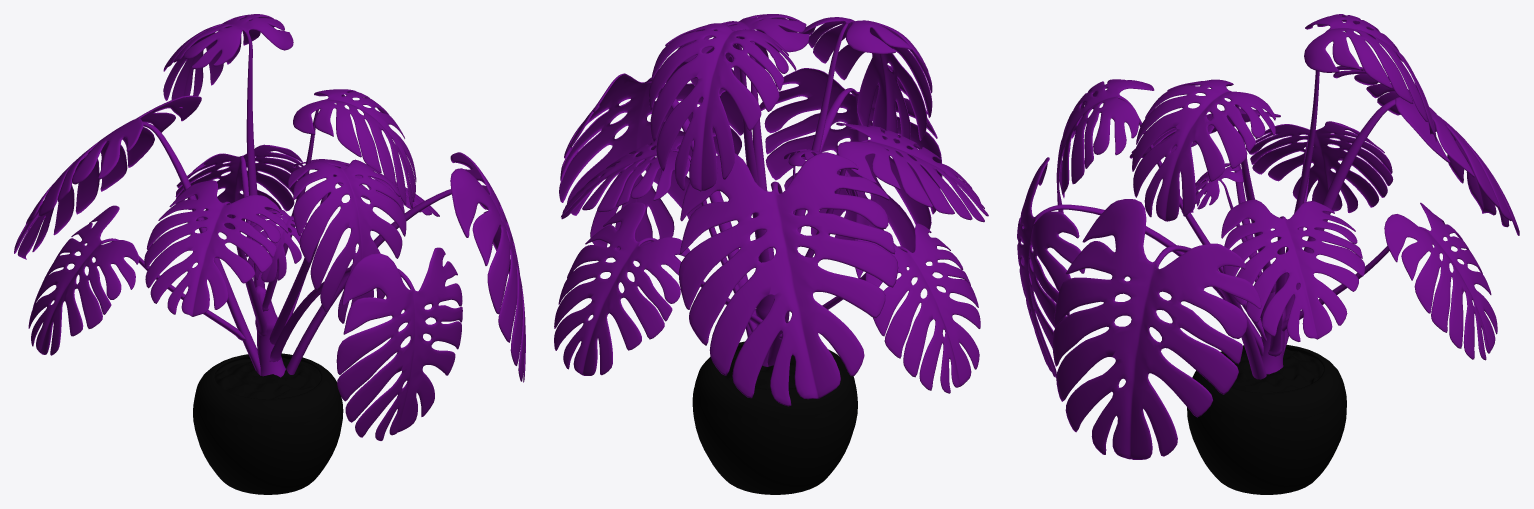
Rendered from Plant Monstera 01.obj.
The picture shows the model from 3 angles, left to right: view 1: azimuth 30°, elevation 25°; view 2: azimuth 150°, elevation 25°; view 3: azimuth 270°, elevation 25°; orthographic projection. The views are drawn at different scales.
Visible parts, largest first — view 1: MONSTERA, POT; view 2: MONSTERA, POT; view 3: MONSTERA, POT.
Boxes of the visible parts, left/top/right/bottom form: MONSTERA: left=14, top=14, right=525, bottom=440; POT: left=193, top=353, right=343, bottom=494; MONSTERA: left=554, top=14, right=988, bottom=406; POT: left=692, top=341, right=857, bottom=494; MONSTERA: left=1017, top=14, right=1519, bottom=459; POT: left=1187, top=345, right=1346, bottom=494.
Size of the model in its own units: 75.75 by 74.29 by 74.52.
